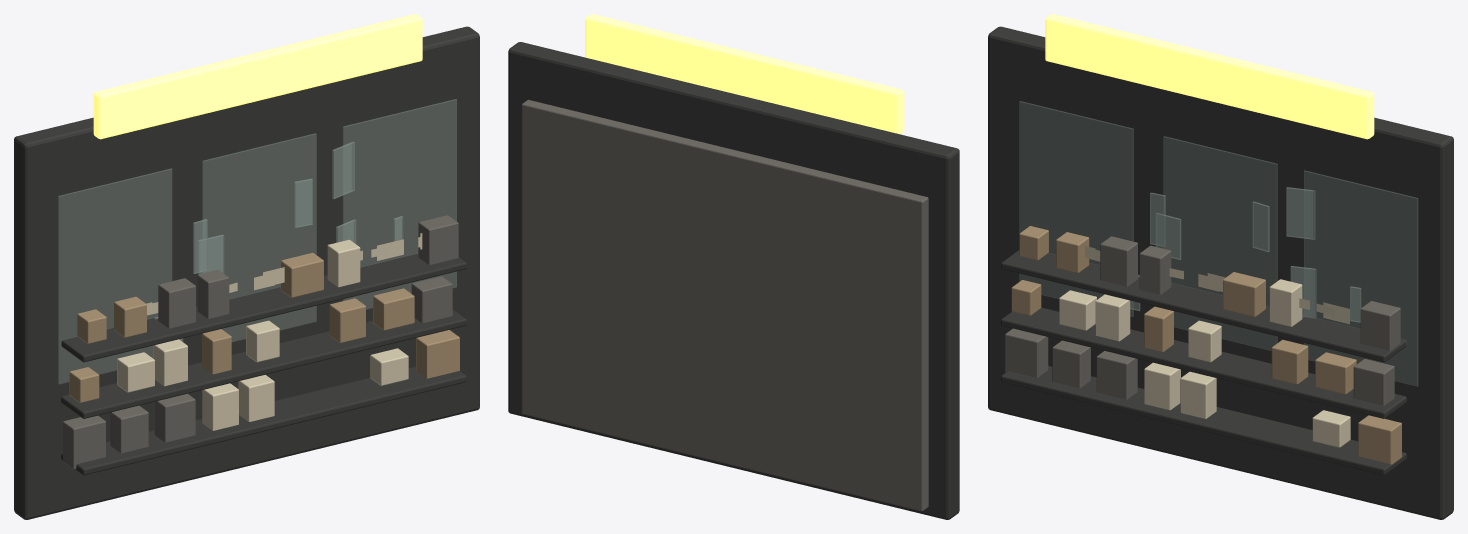
The model's file is dz_shop_front_filled_window_A.glb.
3 renders of one model, left to right at view 1: azimuth 30°, elevation 25°; view 2: azimuth 150°, elevation 25°; view 3: azimuth 330°, elevation 25°, orthographic. The views are drawn at different scales.
Parts seen in each view (by area): view 1: bent_storefront_frame, damaged_store_sign, dirty_glass_panel_-1.15, dirty_glass_panel_1.22, dirty_glass_panel_0.05, display_stock_shelf_board_2, display_stock_shelf_board_1, display_stock_shelf_board_0, display_stock_box_0_0, display_stock_box_0_8, display_stock_box_0_2, display_stock_box_2_8 (+22 smaller); view 2: dark_back_interior, bent_storefront_frame, damaged_store_sign; view 3: bent_storefront_frame, damaged_store_sign, dirty_glass_panel_1.22, dirty_glass_panel_-1.15, dirty_glass_panel_0.05, display_stock_shelf_board_2, display_stock_shelf_board_1, display_stock_shelf_board_0, display_stock_box_0_0, display_stock_box_0_8, display_stock_box_2_8, display_stock_box_0_2 (+23 smaller).
Boxes of the visible parts, x1,y1,x2,y2 form: bent_storefront_frame: [14, 26, 479, 519]; damaged_store_sign: [93, 14, 422, 139]; dirty_glass_panel_-1.15: [58, 168, 171, 384]; dirty_glass_panel_1.22: [343, 99, 456, 309]; dirty_glass_panel_0.05: [202, 133, 316, 341]; display_stock_shelf_board_2: [61, 253, 466, 362]; display_stock_shelf_board_1: [61, 309, 466, 418]; display_stock_shelf_board_0: [61, 366, 466, 475]; display_stock_box_0_0: [63, 415, 105, 469]; display_stock_box_0_8: [416, 330, 459, 378]; display_stock_box_0_2: [154, 393, 195, 442]; display_stock_box_2_8: [418, 215, 458, 264]; dark_back_interior: [521, 99, 928, 511]; bent_storefront_frame: [508, 42, 959, 519]; damaged_store_sign: [585, 14, 904, 134]; bent_storefront_frame: [988, 26, 1453, 519]; damaged_store_sign: [1045, 14, 1374, 139]; dirty_glass_panel_1.22: [1304, 170, 1417, 386]; dirty_glass_panel_-1.15: [1019, 101, 1133, 316]; dirty_glass_panel_0.05: [1163, 136, 1277, 350]; display_stock_shelf_board_2: [1001, 250, 1406, 362]; display_stock_shelf_board_1: [1001, 307, 1406, 418]; display_stock_shelf_board_0: [1001, 366, 1406, 475]; display_stock_box_0_0: [1005, 328, 1048, 377]; display_stock_box_0_8: [1358, 415, 1401, 464]; display_stock_box_2_8: [1360, 301, 1400, 350]; display_stock_box_0_2: [1096, 351, 1137, 399].
Size of the model in its own units: 3.8 by 3.3 by 0.59.
